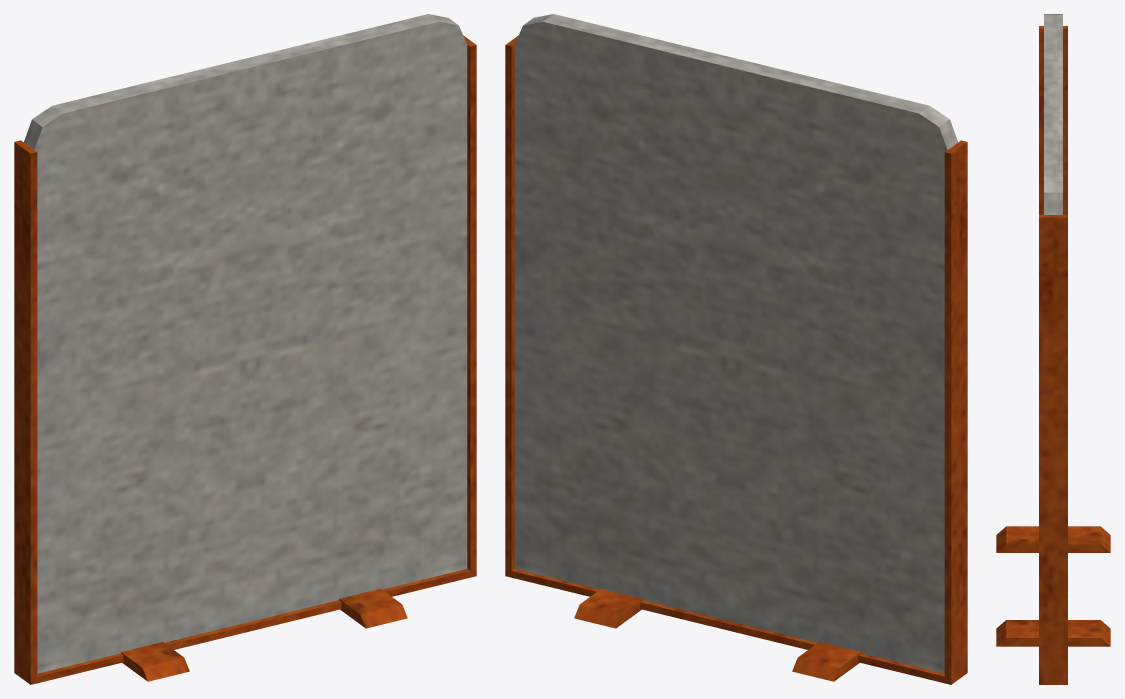
The model's file is divider_veneer_half.obj.
The picture shows the model from 3 angles, left to right: view 1: azimuth 30°, elevation 25°; view 2: azimuth 150°, elevation 25°; view 3: azimuth 270°, elevation 25°; orthographic projection. The views are drawn at different scales.
Visible parts, largest first — view 1: divider_veneer_half; view 2: divider_veneer_half; view 3: divider_veneer_half.
Part boxes in pixels (left/top/right/bottom): divider_veneer_half: left=14, top=14, right=476, bottom=684; divider_veneer_half: left=505, top=14, right=967, bottom=684; divider_veneer_half: left=996, top=14, right=1110, bottom=684.
Bounding box in the file's own units: 2.07 × 2.5 × 0.523.
